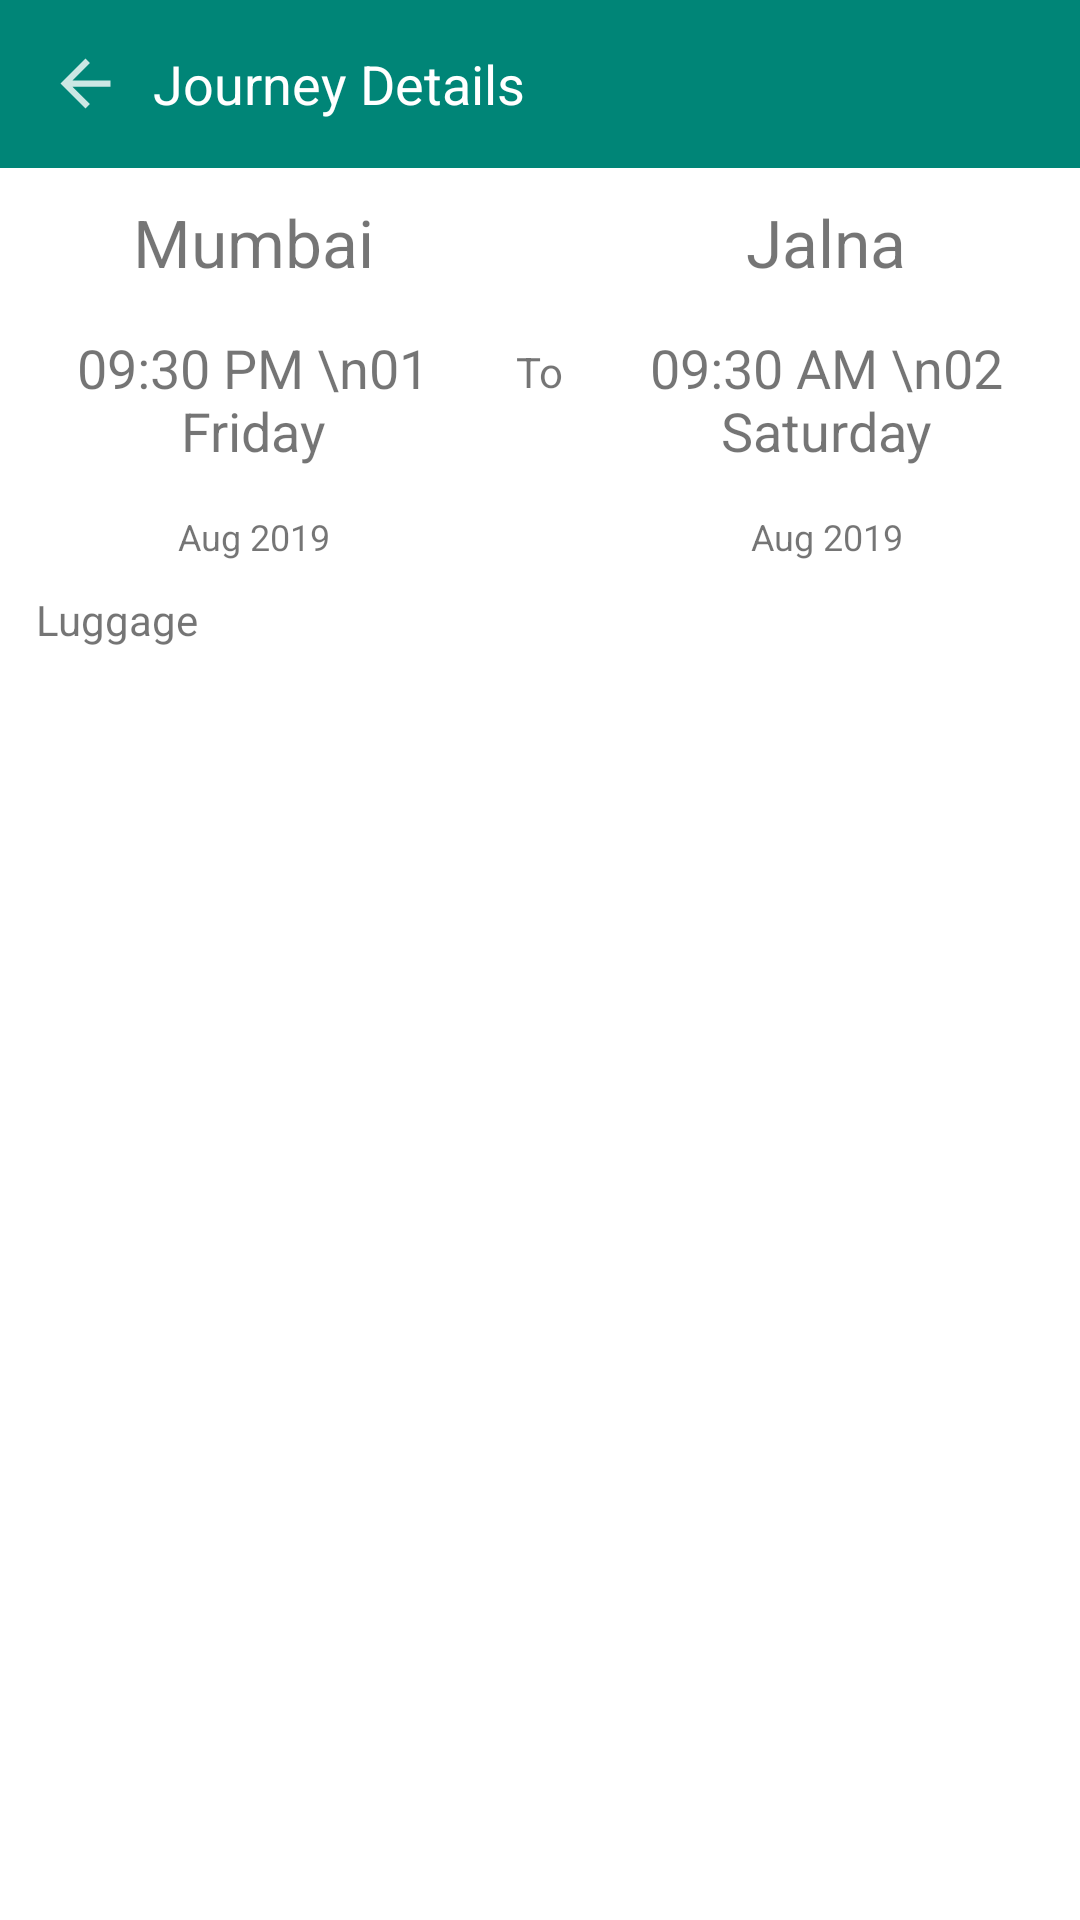

Screen size 1080*1920. Icon name, then its center in pixels as point (x, y):
arrow back: point (85, 83)
